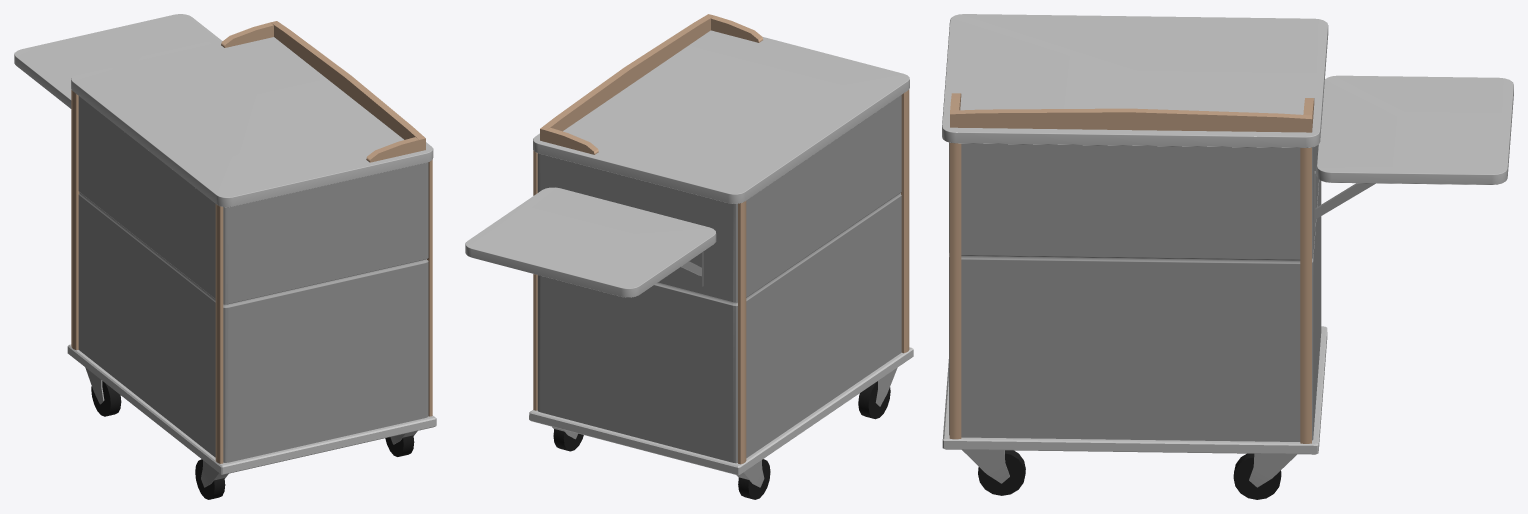
The model's file is Podium.fbx.
The picture shows the model from 3 angles, left to right: view 1: azimuth 30°, elevation 25°; view 2: azimuth 150°, elevation 25°; view 3: azimuth 270°, elevation 25°; orthographic projection. The views are drawn at different scales.
Visible parts, largest first — view 1: Podium_Base, Podium_Top, Podium_Wood, Podium_Wheels; view 2: Podium_Base, Podium_Top, Podium_Wood, Podium_Wheels; view 3: Podium_Base, Podium_Top, Podium_Wood, Podium_Wheels.
Part boxes in pixels (x1=…): Podium_Base: x1=78, y1=96, x2=428, y2=487; Podium_Top: x1=14, y1=14, x2=436, y2=474; Podium_Wood: x1=71, y1=21, x2=432, y2=463; Podium_Wheels: x1=91, y1=381, x2=414, y2=499; Podium_Base: x1=537, y1=95, x2=901, y2=487; Podium_Top: x1=465, y1=30, x2=913, y2=475; Podium_Wood: x1=533, y1=14, x2=909, y2=464; Podium_Wheels: x1=553, y1=381, x2=890, y2=499; Podium_Base: x1=949, y1=142, x2=1375, y2=487; Podium_Top: x1=942, y1=14, x2=1513, y2=454; Podium_Wood: x1=949, y1=93, x2=1314, y2=443; Podium_Wheels: x1=978, y1=450, x2=1281, y2=499.
Bounding box in the file's own units: 77.6 × 113 × 152.
